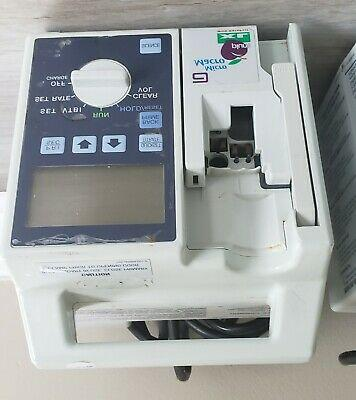plumxl1: (5, 22, 333, 369)
